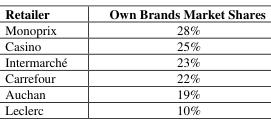table: (4, 4, 264, 117)
table column: (87, 4, 264, 117), (4, 4, 87, 117)
table column header: (4, 4, 264, 21)
table row: (4, 4, 264, 21), (4, 84, 264, 101), (4, 36, 264, 52), (4, 52, 264, 68), (4, 68, 264, 84), (4, 101, 264, 117), (4, 21, 264, 36)
